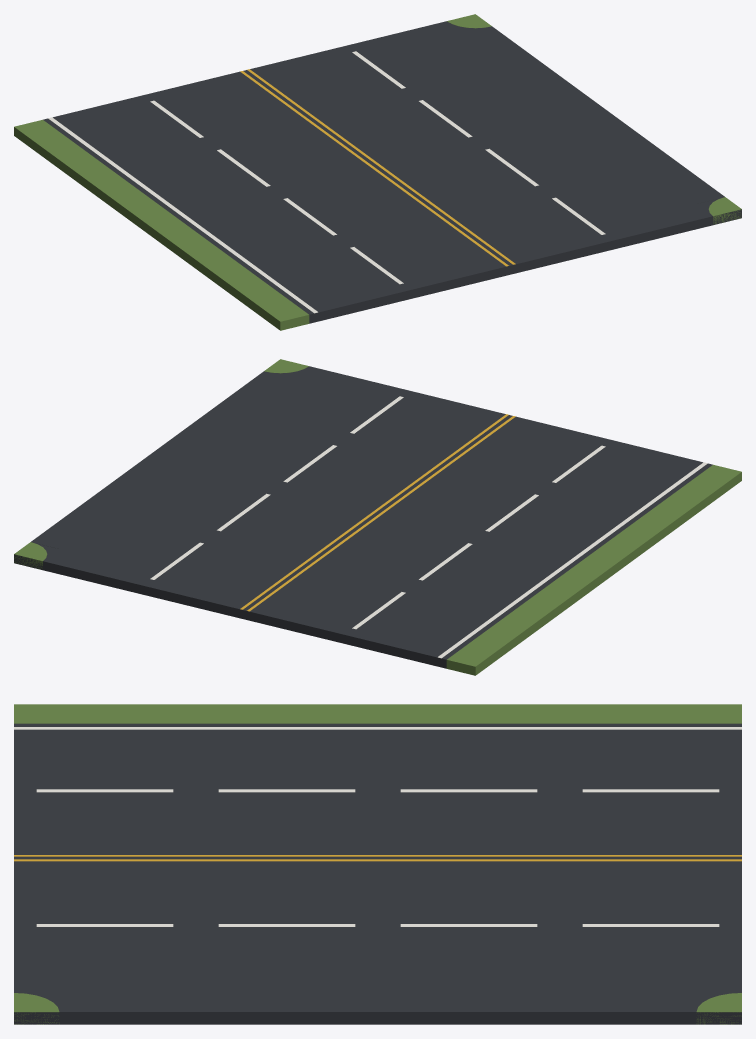
The model's file is Road_4Lane_NoSidewalk_Intersection_T.glb.
3 views of the same model, one above another, from view 1: azimuth 30°, elevation 25°; view 2: azimuth 150°, elevation 25°; view 3: azimuth 270°, elevation 25° (orthographic). The views are drawn at different scales.
Visible parts, largest first — view 1: Road_4Lane_NoSidewalk_Intersection_T_Asphalt, Road_4Lane_NoSidewalk_Intersection_T_Grass-edge, Road_4Lane_NoSidewalk_Intersection_T_PaintWhite, Road_4Lane_NoSidewalk_Intersection_T_PaintYellow; view 2: Road_4Lane_NoSidewalk_Intersection_T_Asphalt, Road_4Lane_NoSidewalk_Intersection_T_Grass-edge, Road_4Lane_NoSidewalk_Intersection_T_PaintWhite, Road_4Lane_NoSidewalk_Intersection_T_PaintYellow; view 3: Road_4Lane_NoSidewalk_Intersection_T_Asphalt, Road_4Lane_NoSidewalk_Intersection_T_Grass-edge, Road_4Lane_NoSidewalk_Intersection_T_PaintWhite, Road_4Lane_NoSidewalk_Intersection_T_PaintYellow.
Part boxes in pixels (x1,y1,x2,y2): Road_4Lane_NoSidewalk_Intersection_T_Asphalt: (43, 21, 741, 323); Road_4Lane_NoSidewalk_Intersection_T_Grass-edge: (14, 14, 741, 330); Road_4Lane_NoSidewalk_Intersection_T_PaintWhite: (48, 51, 605, 313); Road_4Lane_NoSidewalk_Intersection_T_PaintYellow: (240, 69, 515, 266); Road_4Lane_NoSidewalk_Intersection_T_Asphalt: (14, 366, 712, 668); Road_4Lane_NoSidewalk_Intersection_T_Grass-edge: (14, 359, 741, 675); Road_4Lane_NoSidewalk_Intersection_T_PaintWhite: (150, 396, 707, 658); Road_4Lane_NoSidewalk_Intersection_T_PaintYellow: (240, 414, 515, 611); Road_4Lane_NoSidewalk_Intersection_T_Asphalt: (14, 723, 741, 1024); Road_4Lane_NoSidewalk_Intersection_T_Grass-edge: (14, 704, 741, 1024); Road_4Lane_NoSidewalk_Intersection_T_PaintWhite: (14, 727, 741, 926); Road_4Lane_NoSidewalk_Intersection_T_PaintYellow: (14, 855, 741, 861).
Size of the model in its own units: 16 by 0.305 by 16.
